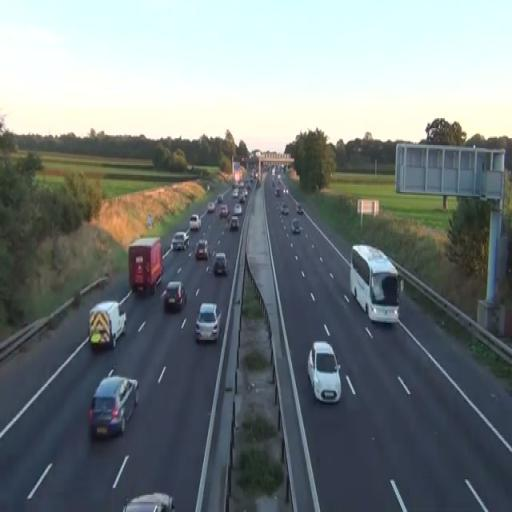Bus: (350, 243, 400, 324)
Car: (89, 375, 139, 440), (307, 341, 342, 404), (194, 303, 221, 343), (123, 492, 175, 512), (163, 280, 187, 313), (213, 251, 228, 277), (195, 240, 209, 261), (172, 231, 186, 251), (189, 213, 201, 232), (229, 216, 239, 231)
Truck: (128, 237, 164, 295), (89, 300, 127, 350)
